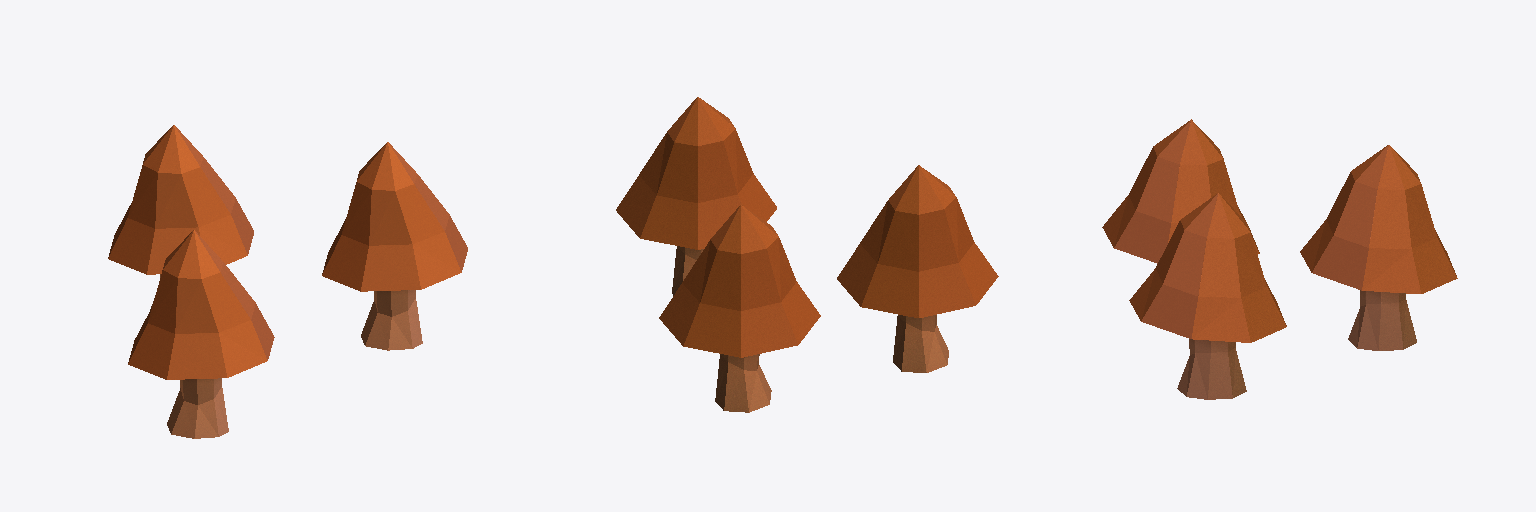
The picture shows the model from 3 angles: view 1: azimuth 30°, elevation 25°; view 2: azimuth 150°, elevation 25°; view 3: azimuth 270°, elevation 25°; orthographic projection.
Parts seen in each view (by area): view 1: Mushroom2_Cylinder.001, Mushroom2_Cylinder.002, Mushroom2_Cylinder.054; view 2: Mushroom2_Cylinder.054, Mushroom2_Cylinder.001, Mushroom2_Cylinder.002; view 3: Mushroom2_Cylinder.002, Mushroom2_Cylinder.054, Mushroom2_Cylinder.001.
Boxes of the visible parts, x1,y1,x2,y2 form: Mushroom2_Cylinder.001: [128, 230, 274, 438]; Mushroom2_Cylinder.002: [322, 142, 467, 350]; Mushroom2_Cylinder.054: [108, 125, 253, 309]; Mushroom2_Cylinder.054: [659, 205, 820, 412]; Mushroom2_Cylinder.001: [837, 165, 998, 372]; Mushroom2_Cylinder.002: [616, 97, 776, 295]; Mushroom2_Cylinder.002: [1129, 193, 1286, 399]; Mushroom2_Cylinder.054: [1300, 145, 1457, 350]; Mushroom2_Cylinder.001: [1102, 119, 1259, 263].
Size of the model in its own units: 1.45 by 0.928 by 1.33.
Materials: 6 (1 with a texture image).